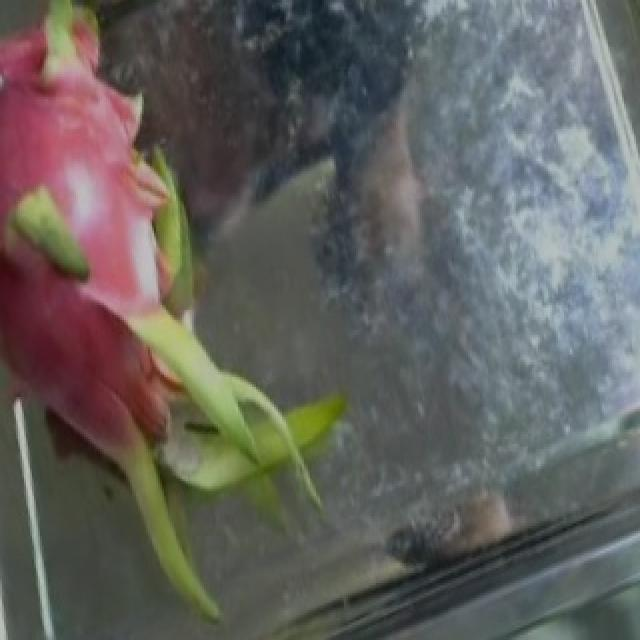fruit: (0, 221, 384, 635), (0, 5, 292, 429)
